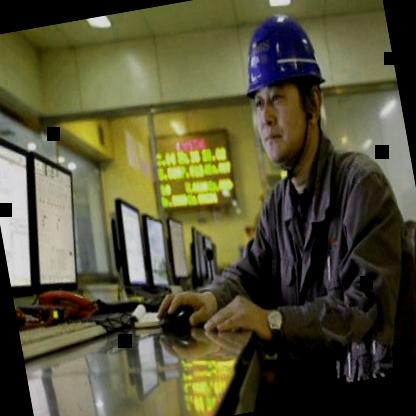helmet: (217, 0, 349, 184)
